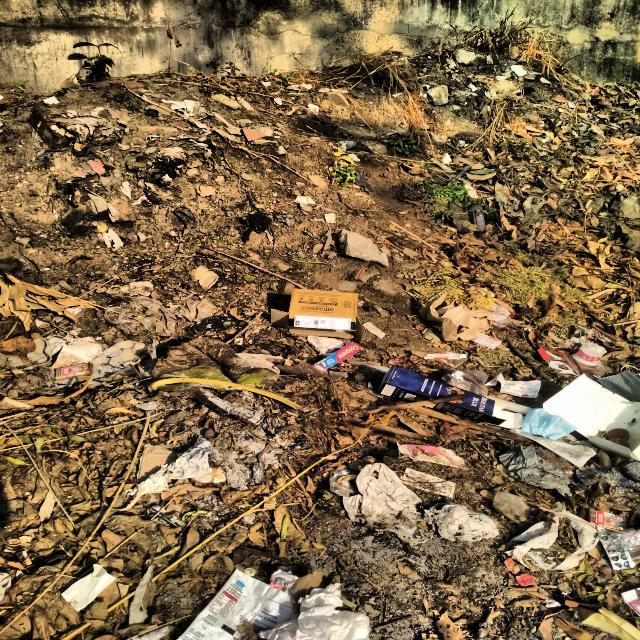anorganik: (170, 568, 304, 640), (507, 508, 637, 572)
b3: (520, 409, 573, 440)
organik: (379, 365, 536, 432), (543, 370, 640, 461), (257, 583, 372, 640), (270, 288, 365, 335)
